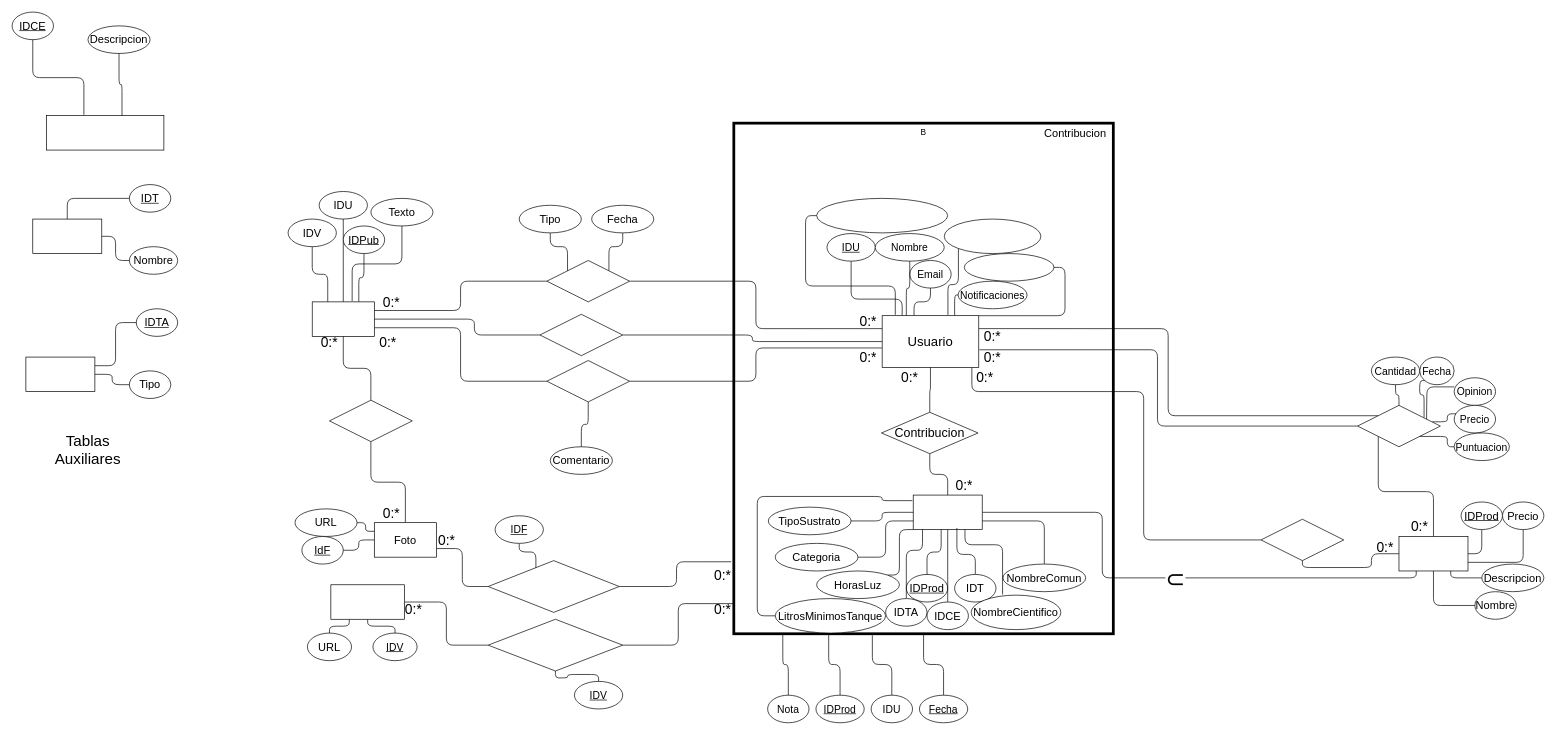
This 1563x735 diagram has some shape labels left out. Each missing label, with the box of its shape:
Comentar: (546, 360, 630, 402)
Compra: (1357, 405, 1440, 447)
ConfiguracionDePrivacidad: (816, 198, 948, 233)
Contribucion_Foto: (487, 560, 619, 612)
Contribucion_Video: (487, 619, 623, 671)
Cuidados_Especificos: (46, 115, 164, 150)
DireccionParticular: (964, 253, 1054, 281)
Especie: (913, 494, 982, 530)
FechaDeNacimiento: (944, 218, 1041, 254)
Gustar: (1260, 519, 1344, 561)
Producto: (1398, 536, 1468, 571)
Publicacion: (312, 301, 374, 336)
Publicar: (539, 314, 623, 356)
Reaccionar: (546, 260, 630, 302)
Temporada: (32, 218, 102, 254)
Tener_Foto: (329, 400, 412, 442)
TipoAgua: (25, 356, 95, 392)
Video: (330, 584, 404, 619)
